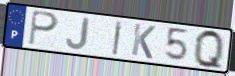5: (164, 26, 190, 64)
I: (111, 19, 124, 57)
J: (64, 17, 91, 51)
K: (130, 22, 158, 61)
P: (28, 9, 60, 46)
Q: (193, 28, 225, 72)
